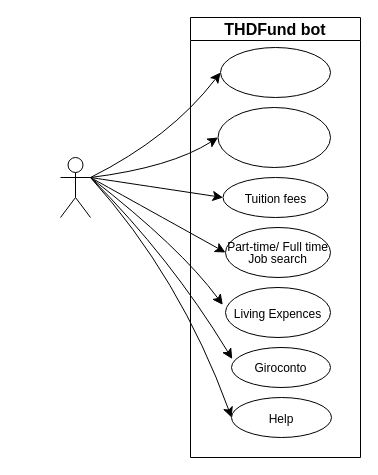
Some shapes in this 378 by 475 pixel diagram are drawn without their labels. Here are the shapes that lost their labels. From the top down, the centre of each, then its label:
At [275,72]: "Tuition Scholarships".
At [273,137]: "Study Abroad Funding programs".
At [75,187]: "Registered User".
